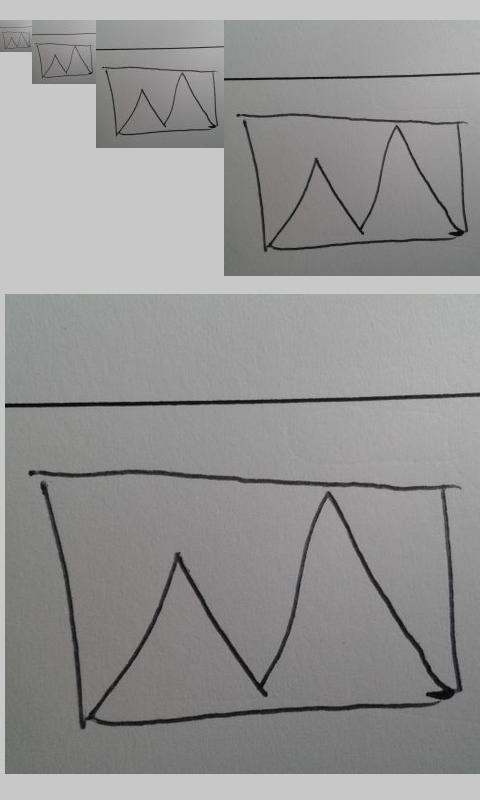image_view: (41, 468, 465, 731), (241, 112, 469, 253), (104, 67, 219, 136), (36, 43, 93, 78), (2, 31, 31, 50)
